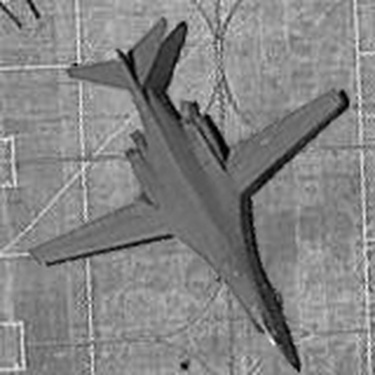airplane: (16, 10, 353, 367)
